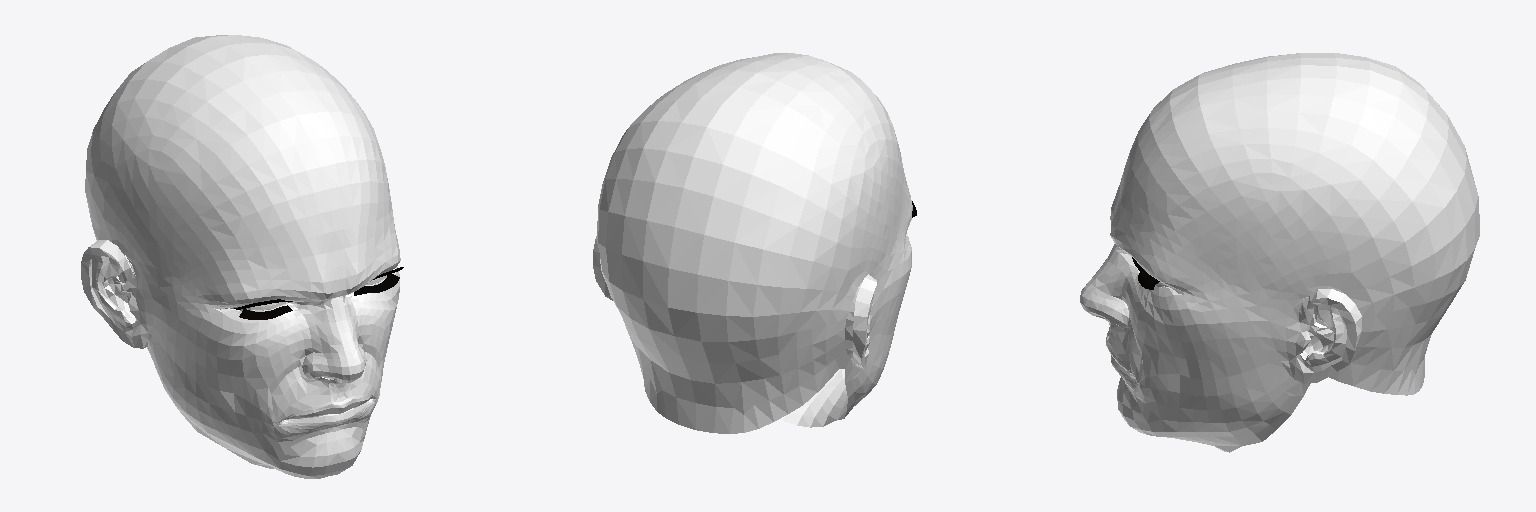
Rendered from Old.obj.
3 renders of one model, left to right at view 1: azimuth 30°, elevation 25°; view 2: azimuth 150°, elevation 25°; view 3: azimuth 270°, elevation 25°, orthographic.
Parts seen in each view (by area): view 1: Genesis3Male; view 2: Genesis3Male; view 3: Genesis3Male.
Boxes of the visible parts, box(x1,y1,x2,y2) form: Genesis3Male: box(81, 35, 403, 478); Genesis3Male: box(593, 53, 916, 433); Genesis3Male: box(1080, 53, 1479, 452).
Size of the model in its own units: 18.47 by 24.56 by 23.37.